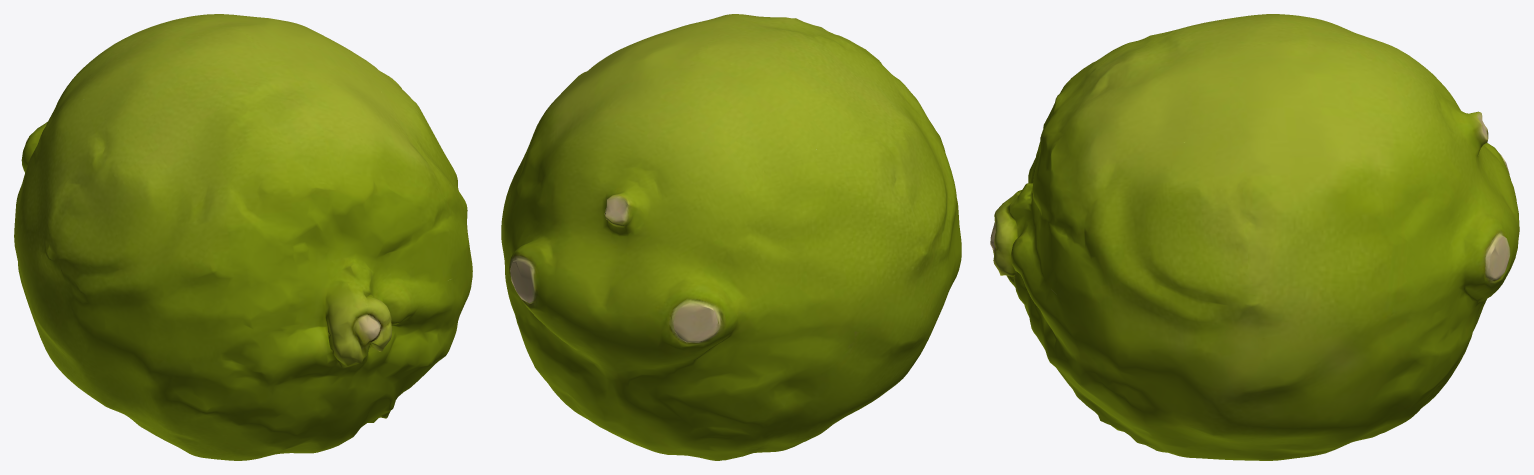
Rendered from lime.glb.
3 renders of one model, left to right at view 1: azimuth 30°, elevation 25°; view 2: azimuth 150°, elevation 25°; view 3: azimuth 270°, elevation 25°, orthographic. The views are drawn at different scales.
Visible parts, largest first — view 1: tripo_node_27d77ed1-8ff7-4ea7-831b-1ae0d92d04d1; view 2: tripo_node_27d77ed1-8ff7-4ea7-831b-1ae0d92d04d1; view 3: tripo_node_27d77ed1-8ff7-4ea7-831b-1ae0d92d04d1.
Boxes of the visible parts, bbox=[...] form: tripo_node_27d77ed1-8ff7-4ea7-831b-1ae0d92d04d1: bbox=[14, 14, 472, 460]; tripo_node_27d77ed1-8ff7-4ea7-831b-1ae0d92d04d1: bbox=[501, 14, 961, 460]; tripo_node_27d77ed1-8ff7-4ea7-831b-1ae0d92d04d1: bbox=[990, 14, 1519, 460].
Bounding box in the file's own units: 0.8542 × 0.8205 × 0.9797.
Materials: 1 (1 with a texture image).
